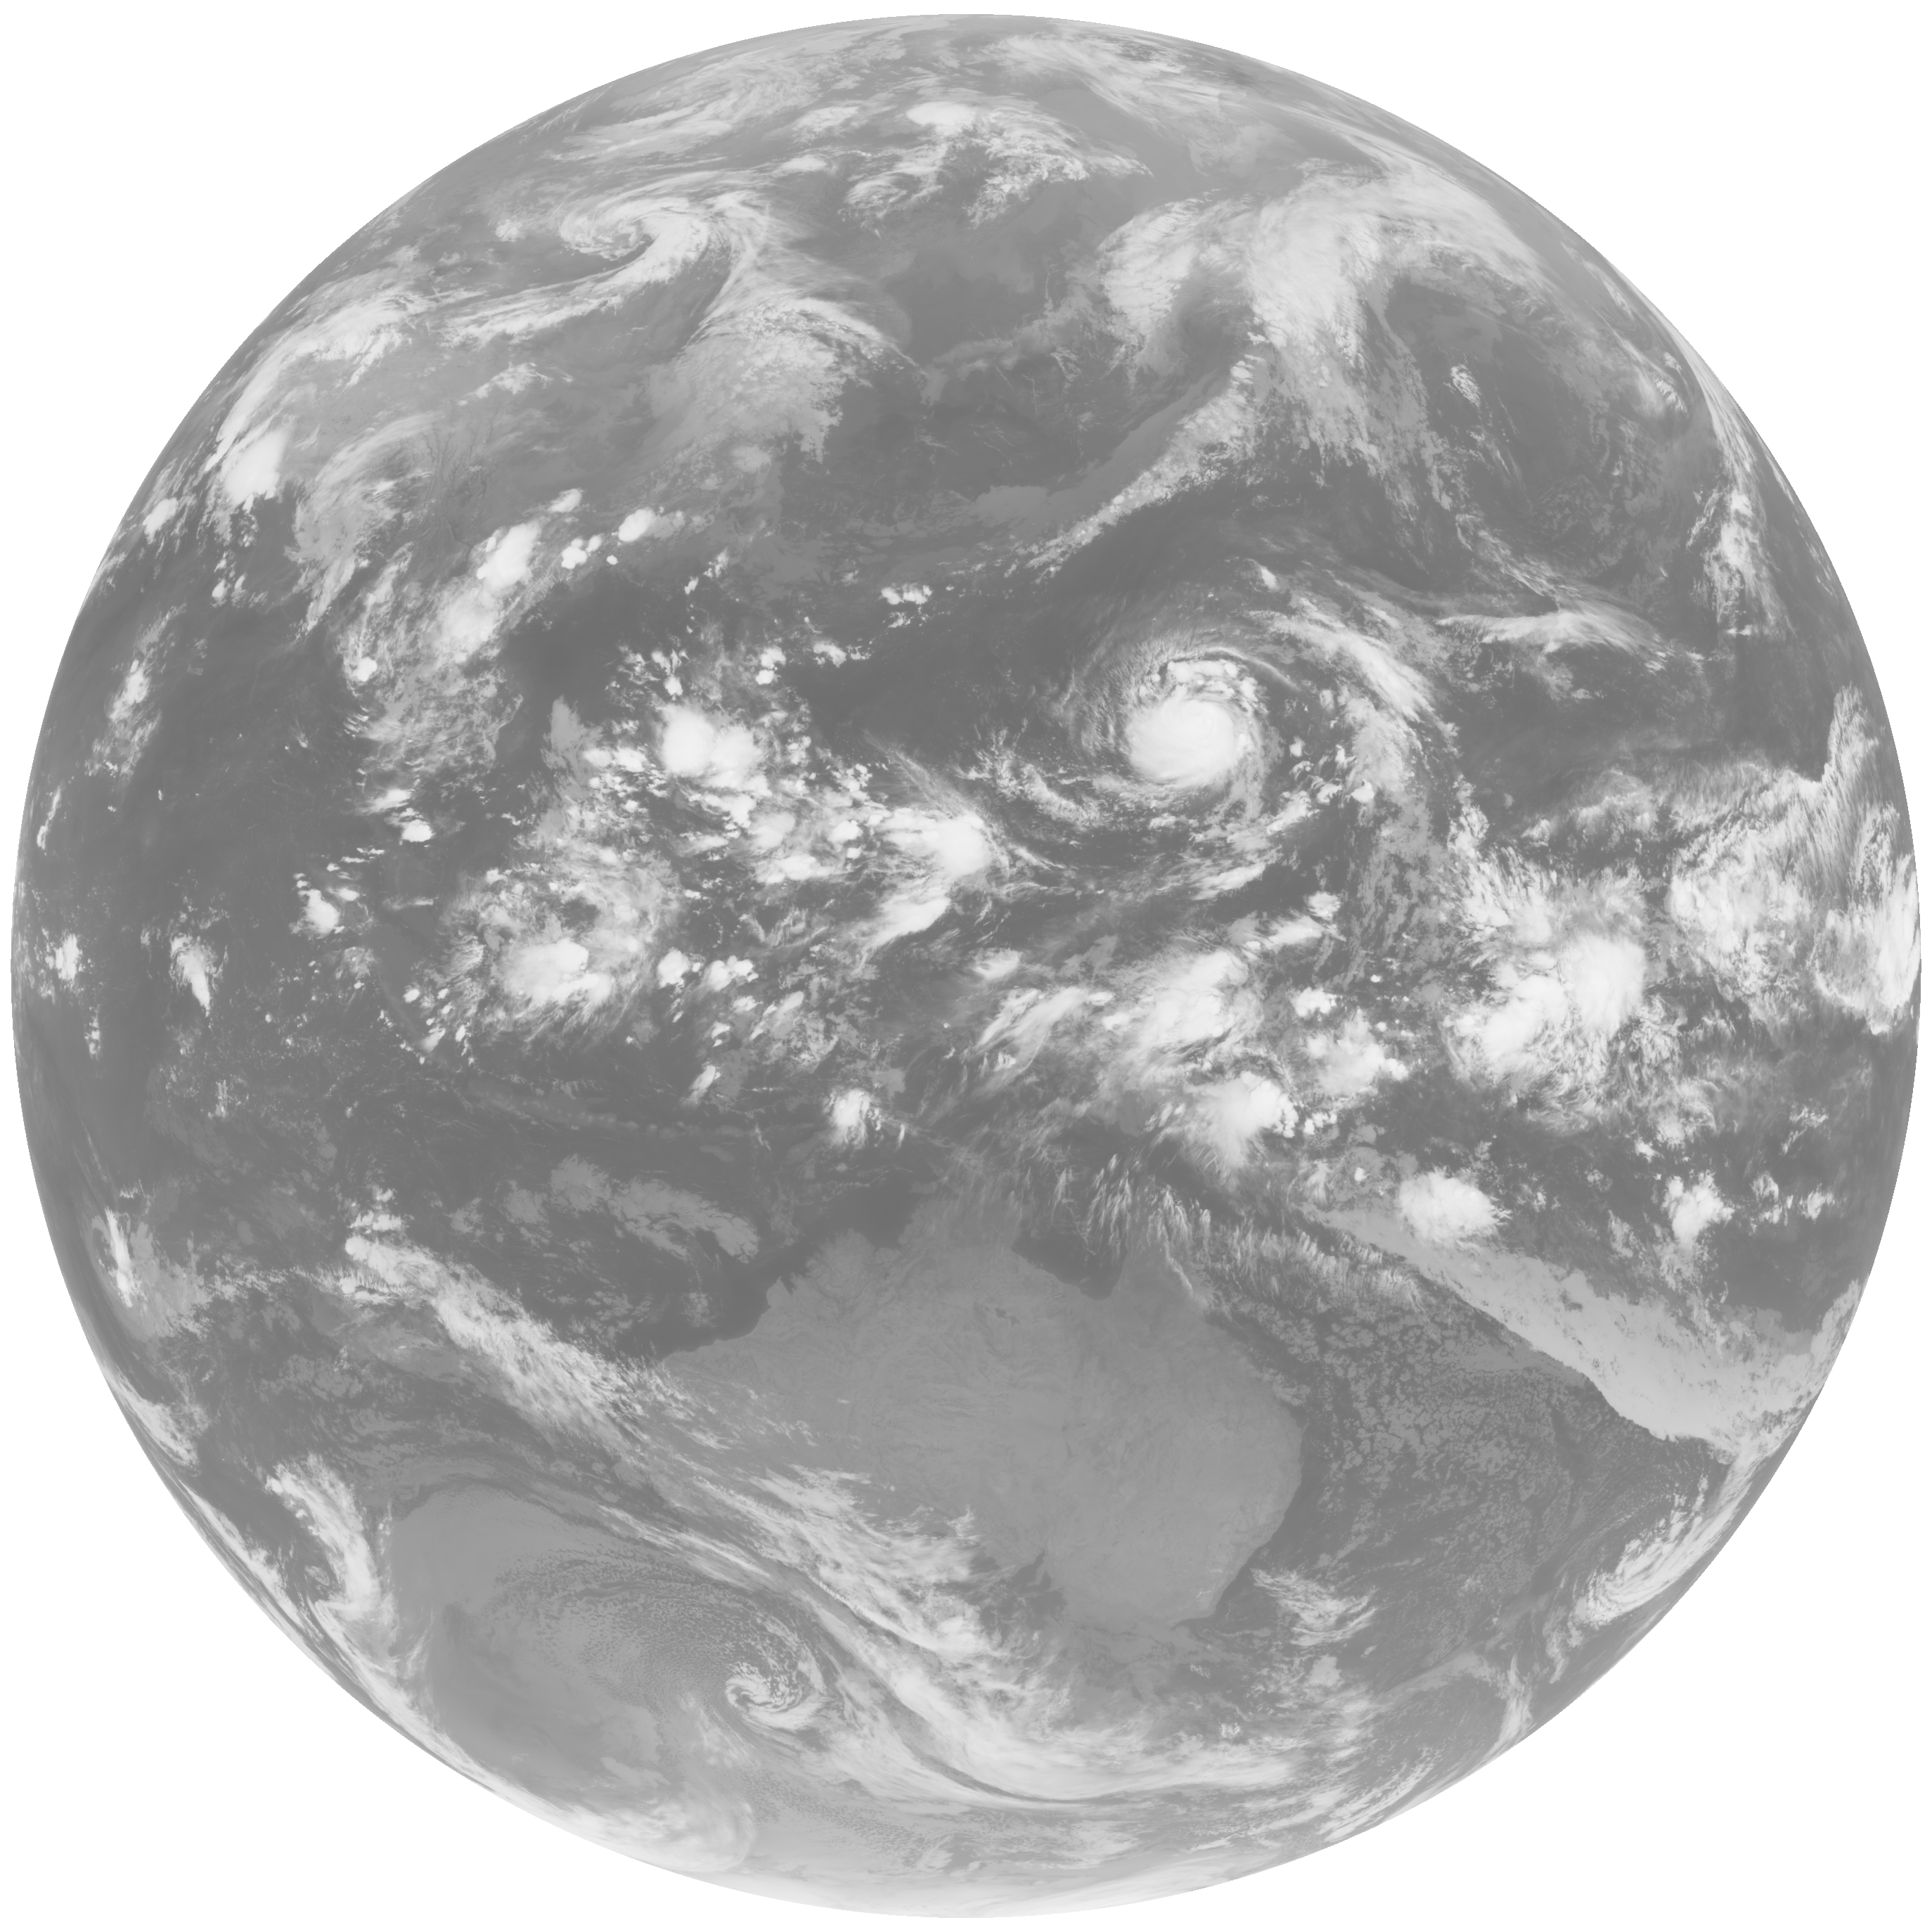typhoon: (987, 575, 1428, 904)
